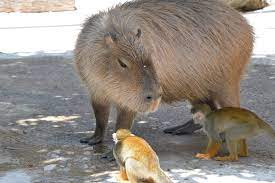capivara: (73, 1, 256, 144)
